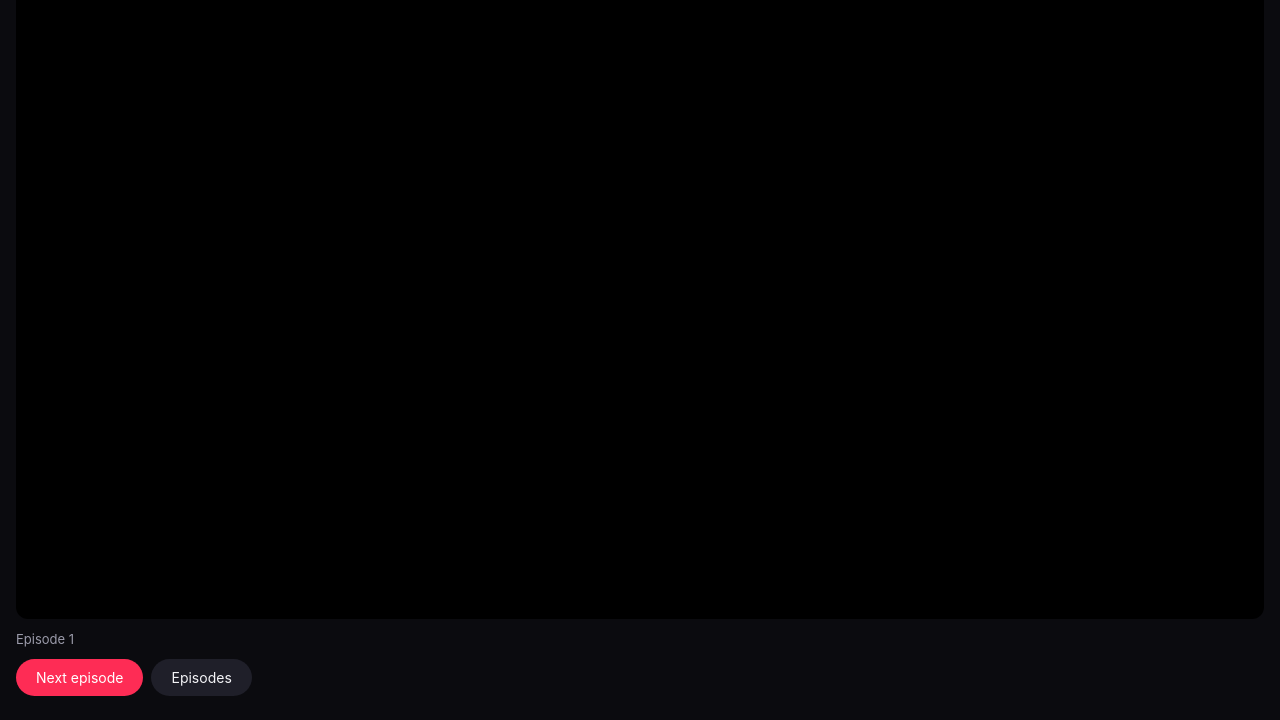
Scenario: locked episodes are intercepted at every entry › sessions the next catalogue episode on 连播, and a lock there does not play demo content
(page scrolled)
Click the button with test id "player-next": (80, 678) [16, 659, 144, 696]
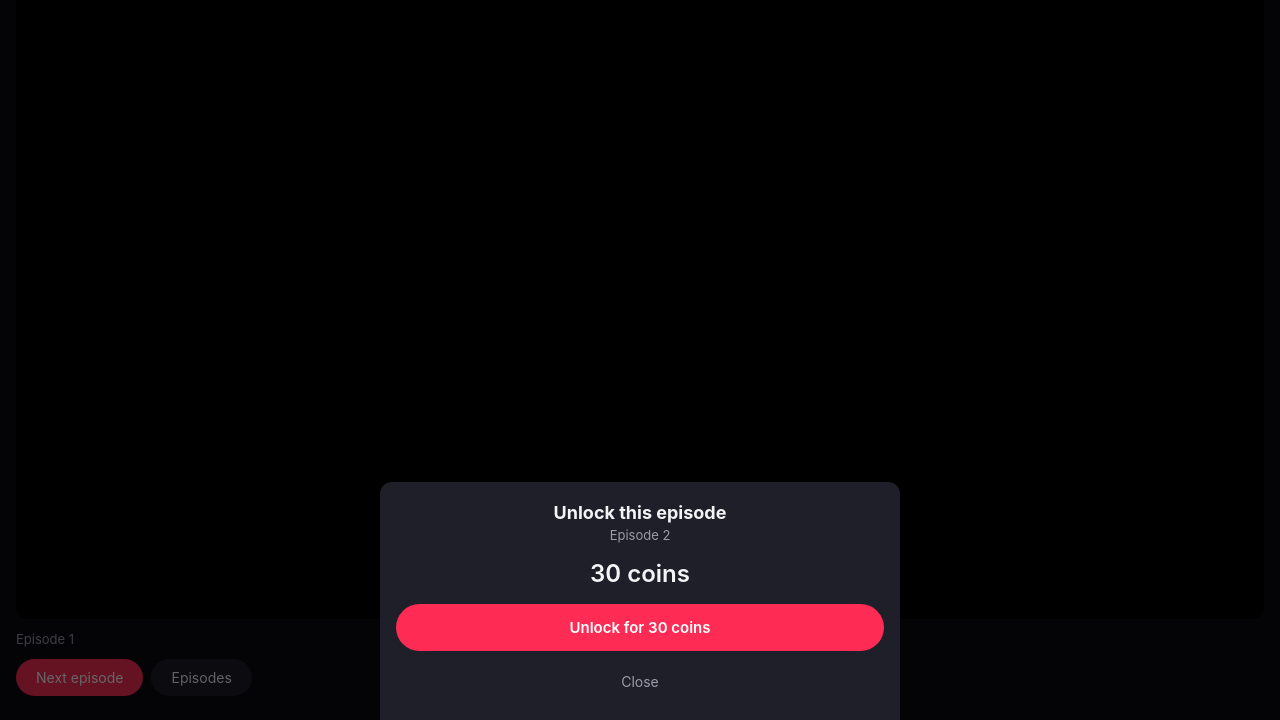
Check: the element with test id "unlock-panel" is shown
